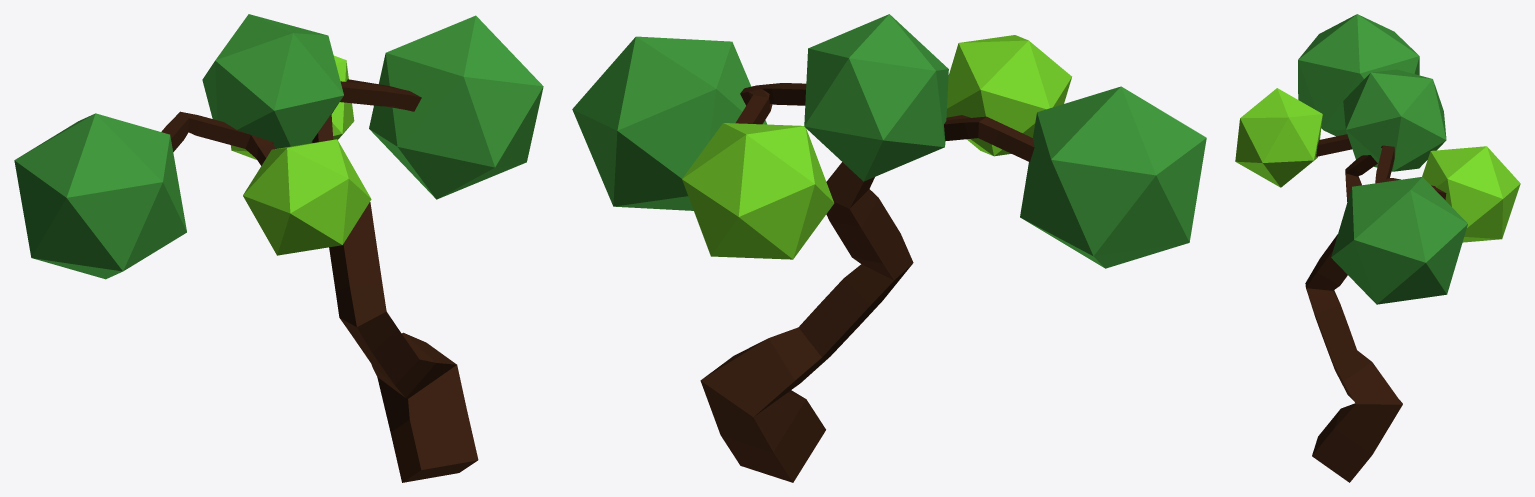
Rendered from Tree A2.fbx.
The picture shows the model from 3 angles, left to right: view 1: azimuth 30°, elevation 25°; view 2: azimuth 150°, elevation 25°; view 3: azimuth 270°, elevation 25°; orthographic projection. The views are drawn at different scales.
Parts seen in each view (by area): view 1: Icosphere, Cube, Icosphere.004, Icosphere.002, Icosphere.001, Icosphere.003; view 2: Cube, Icosphere, Icosphere.004, Icosphere.002, Icosphere.003, Icosphere.001; view 3: Icosphere.004, Cube, Icosphere.002, Icosphere, Icosphere.003, Icosphere.001.
Part boxes in pixels (box(x1,y1,x2,y2)): Icosphere: box(14, 113, 186, 279); Cube: box(161, 79, 478, 482); Icosphere.004: box(369, 15, 543, 199); Icosphere.002: box(202, 14, 343, 148); Icosphere.001: box(243, 139, 371, 255); Icosphere.003: box(230, 55, 354, 159); Cube: box(700, 83, 1034, 482); Icosphere: box(1020, 86, 1206, 268); Icosphere.004: box(572, 36, 767, 210); Icosphere.002: box(804, 14, 948, 181); Icosphere.003: box(682, 123, 834, 259); Icosphere.001: box(946, 35, 1071, 156); Icosphere.004: box(1331, 176, 1467, 304); Cube: box(1305, 134, 1446, 482); Icosphere.002: box(1343, 69, 1446, 171); Icosphere: box(1298, 14, 1419, 136); Icosphere.003: box(1422, 146, 1520, 242); Icosphere.001: box(1235, 88, 1322, 187).
Size of the model in its own units: 850 by 718 by 525.
